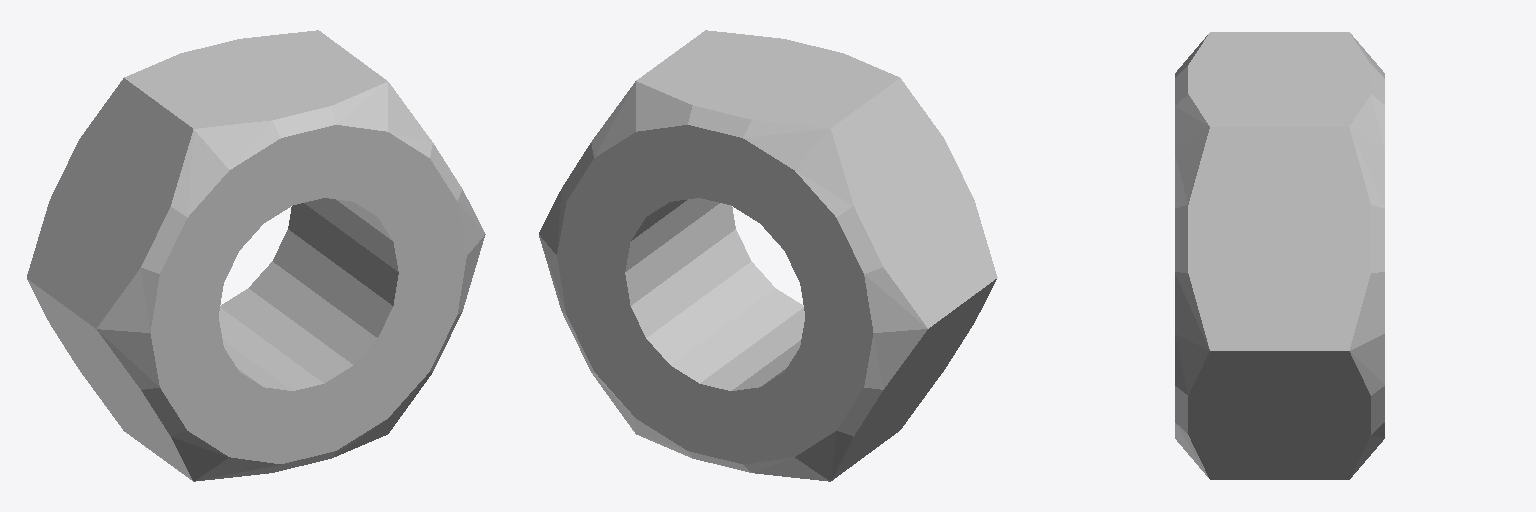
The model's file is uploads_files_2244902_Low_Poly_Nut_OBJ.obj.
3 views of the same model, side by side, from view 1: azimuth 30°, elevation 25°; view 2: azimuth 150°, elevation 25°; view 3: azimuth 270°, elevation 25° (orthographic).
Visible parts, largest first — view 1: low_poly_nut; view 2: low_poly_nut; view 3: low_poly_nut.
Part boxes in pixels (left/top/right/bottom): low_poly_nut: left=27, top=30, right=485, bottom=481; low_poly_nut: left=539, top=30, right=997, bottom=481; low_poly_nut: left=1175, top=32, right=1384, bottom=479.
Size of the model in its own units: 1.23 by 1.07 by 0.5767.